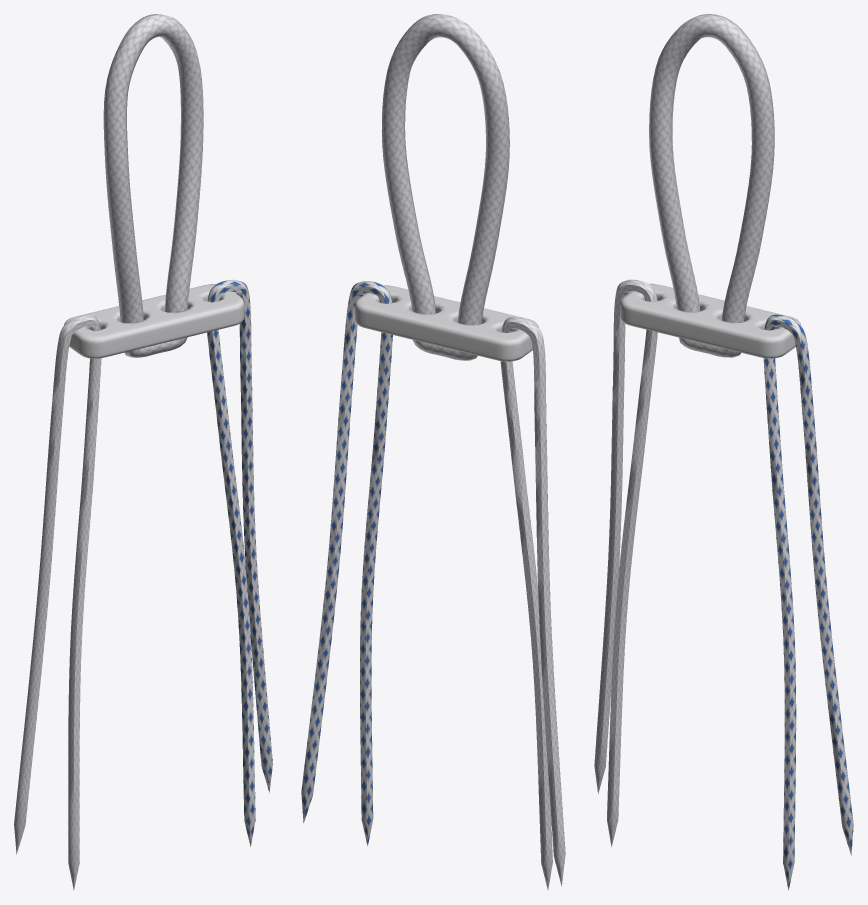
File: ringbutton_20_lod1.glb
The picture shows the model from 3 angles, left to right: view 1: azimuth 30°, elevation 25°; view 2: azimuth 150°, elevation 25°; view 3: azimuth 330°, elevation 25°; orthographic projection. The views are drawn at different scales.
Visible parts, largest first — view 1: ringbutton; view 2: ringbutton; view 3: ringbutton.
Part boxes in pixels (<box>): ringbutton: <box>14,14,272,890</box>; ringbutton: <box>301,14,565,890</box>; ringbutton: <box>594,14,853,890</box>.
Bounding box in the file's own units: 0.019 × 0.0593 × 0.004.
3 materials, 2 textured.
